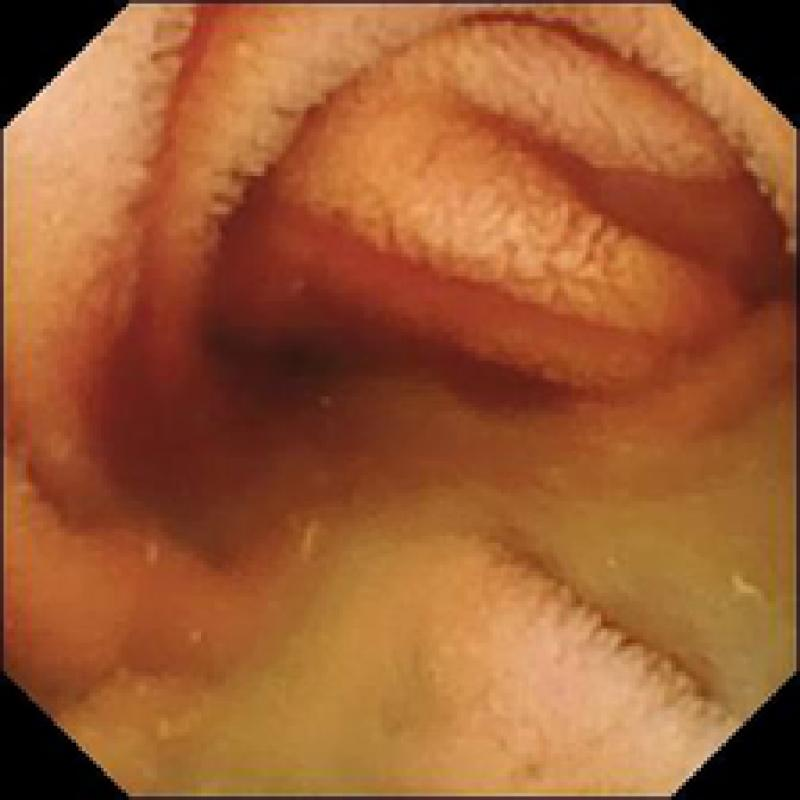bleeding: (82, 7, 575, 561), (586, 32, 790, 304)
